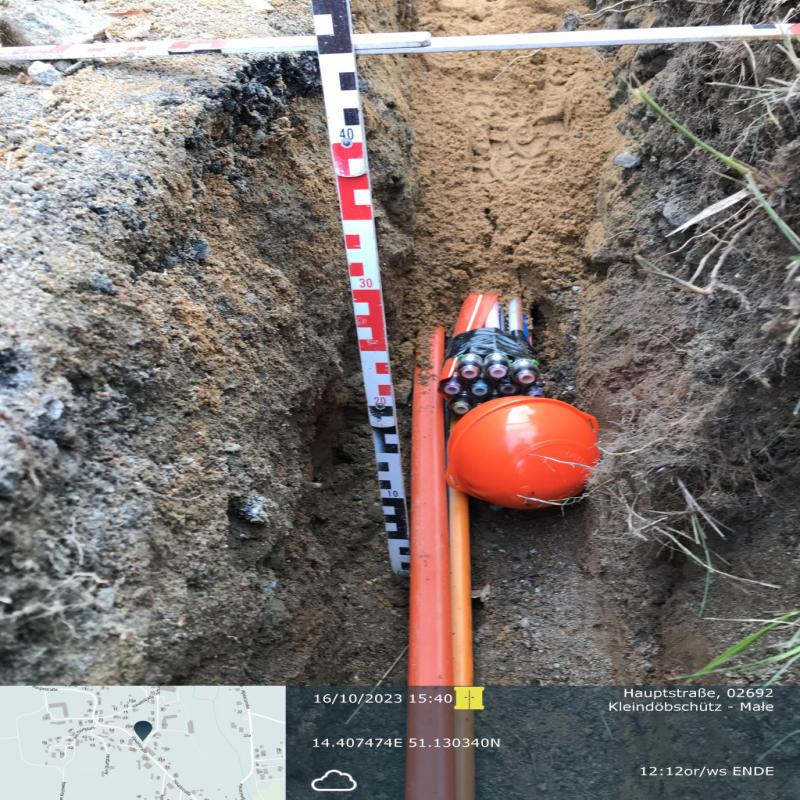Orang-Speednetrohrchen: (445, 397, 602, 511), (409, 327, 452, 681), (439, 291, 535, 417)
